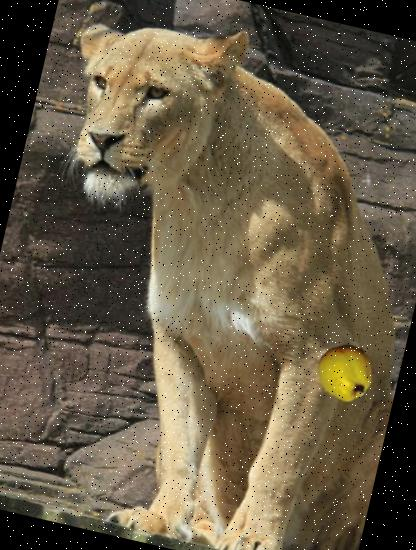Quince: (311, 336, 381, 406)
